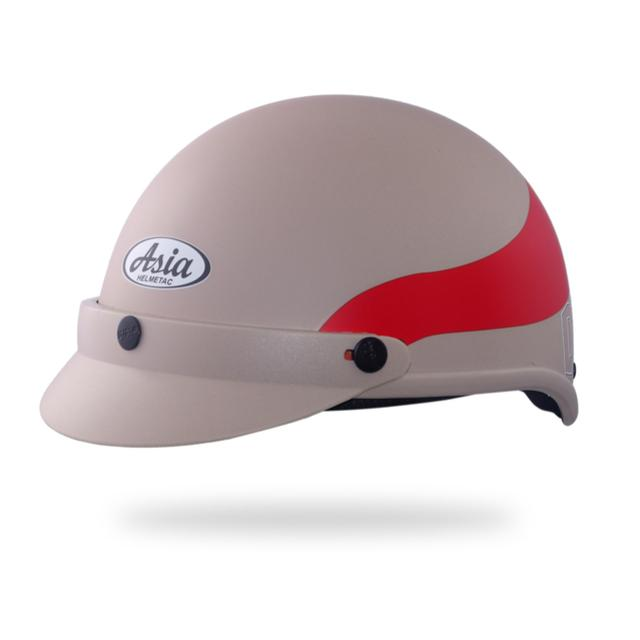Helmet: (37, 90, 581, 450)
